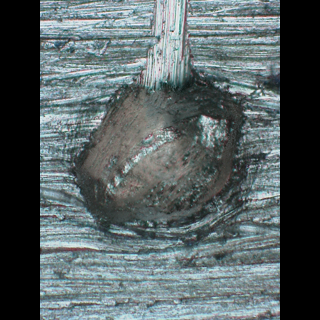d: (61, 51, 258, 247)
